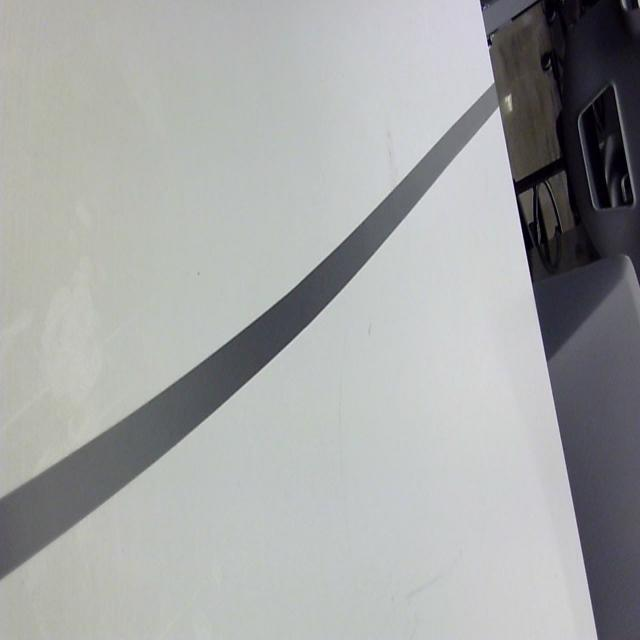tape: (0, 69, 510, 594)
